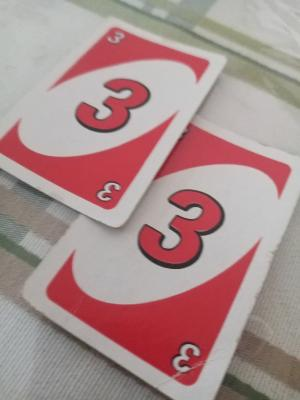num_3: (90, 175, 126, 207), (104, 18, 127, 49)
